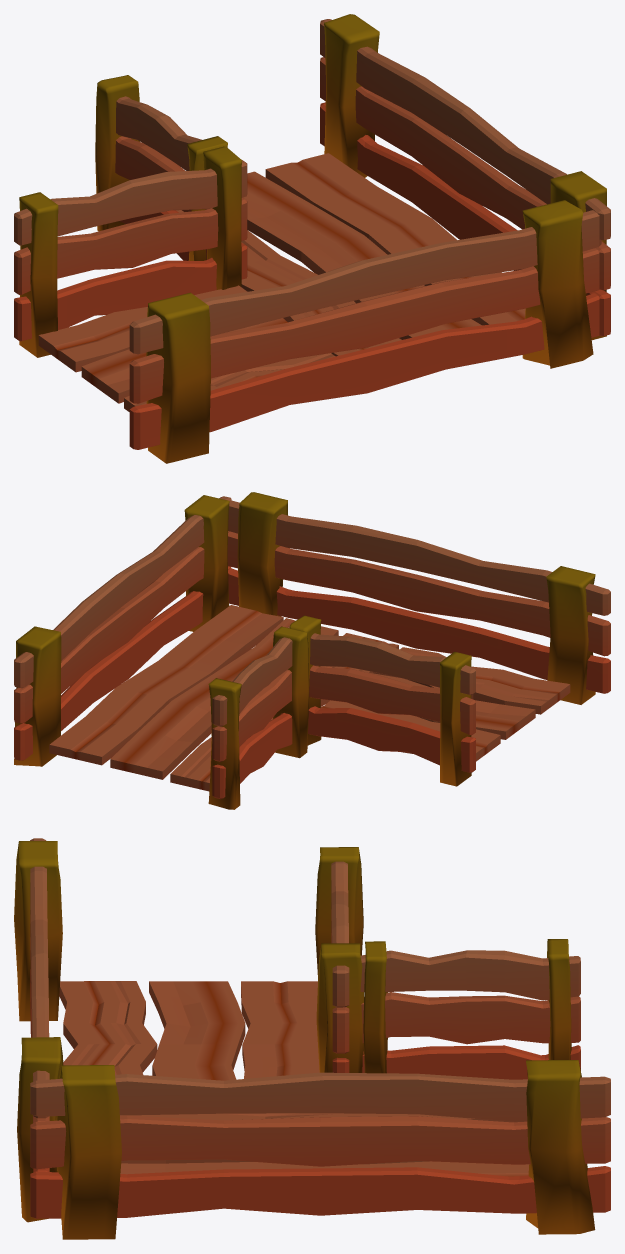
Rendered from СЕГМЕНТ ПОВОРОТ.fbx.
The picture shows the model from 3 angles, top to bottom: view 1: azimuth 30°, elevation 25°; view 2: azimuth 150°, elevation 25°; view 3: azimuth 270°, elevation 25°; orthographic projection. The views are drawn at different scales.
Visible parts, largest first — view 1: Cube.001, Cube.009, Cube.004, Cube.007, Cube.008, Cube.006; view 2: Cube.001, Cube.009, Cube.007, Cube.004, Cube.008, Cube.006; view 3: Cube.009, Cube.008, Cube.006, Cube.001, Cube.004, Cube.007.
Part boxes in pixels (x1,y1,x2,y2): Cube.001: (129,200,601,463); Cube.009: (320,14,610,340); Cube.004: (14,146,247,357); Cube.007: (176,153,525,356); Cube.008: (95,75,227,260); Cube.006: (38,285,335,411); Cube.001: (227,492,610,704); Cube.009: (14,495,231,766); Cube.007: (49,605,398,791); Cube.004: (287,615,475,786); Cube.008: (208,626,309,809); Cube.006: (320,647,570,761); Cube.009: (30,1060,610,1239); Cube.008: (360,939,580,1079); Cube.006: (59,981,319,1080); Cube.001: (14,838,63,1222); Cube.004: (315,847,363,1072); Cube.007: (120,1113,529,1176).
Bounding box in the file's own units: 1429 × 414 × 1407.
